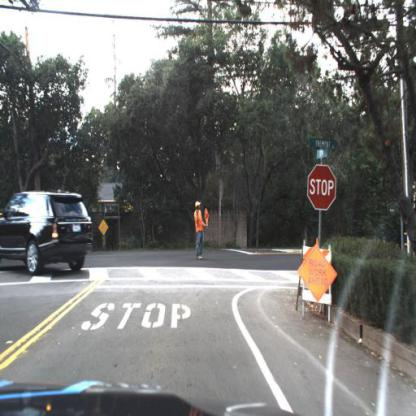car: (2, 190, 93, 278)
pedestrian: (191, 198, 211, 260)
